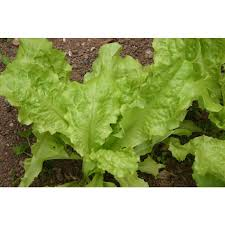Lettuce: (2, 44, 224, 196)
